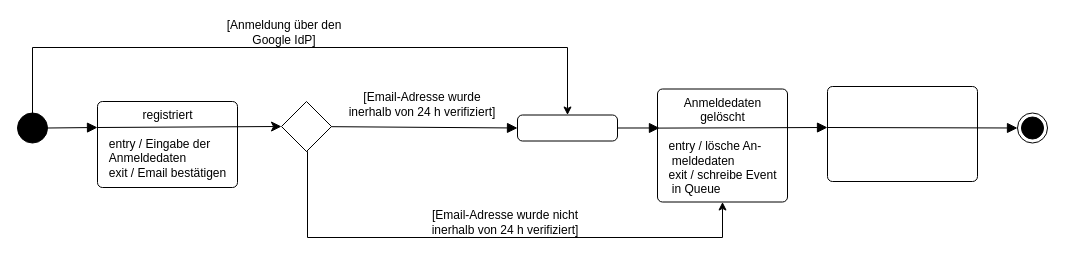
The diagram is 1065 pixels wide and 263 high, and some of its shapes have lost their labels. Here are the shapes that lost their labels. From the top down, the centre of each, then its label:
At (567,127): "verifiziert".
At (902,134): "Benutzerdaten gelöscht entry / lösche alle übrigen benutzergenerierten Daten".
